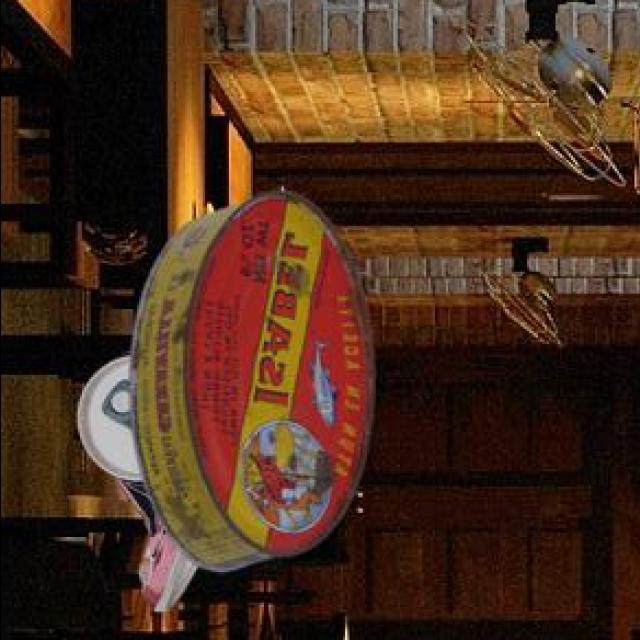logam: (133, 194, 376, 575), (80, 354, 201, 615)
